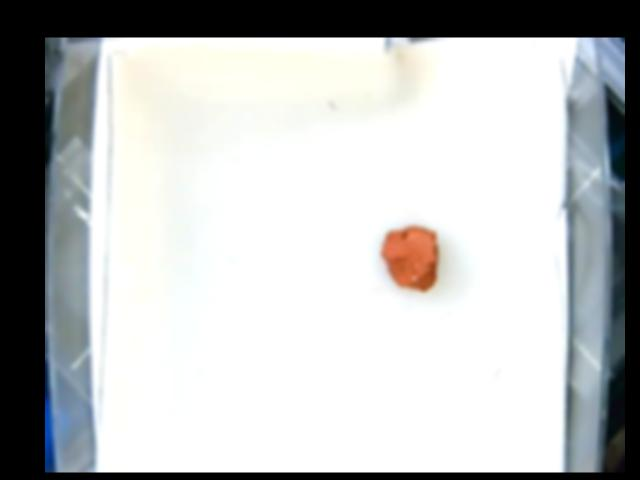Brisk: (382, 225, 440, 293)
